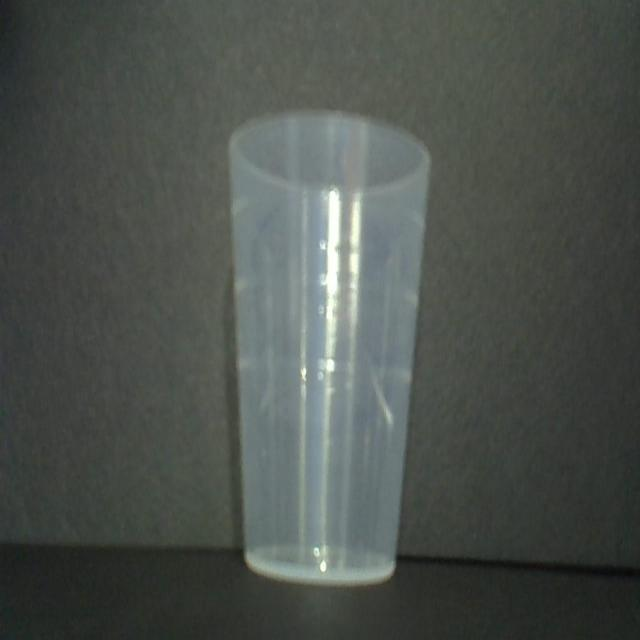cup: (229, 108, 433, 584)
